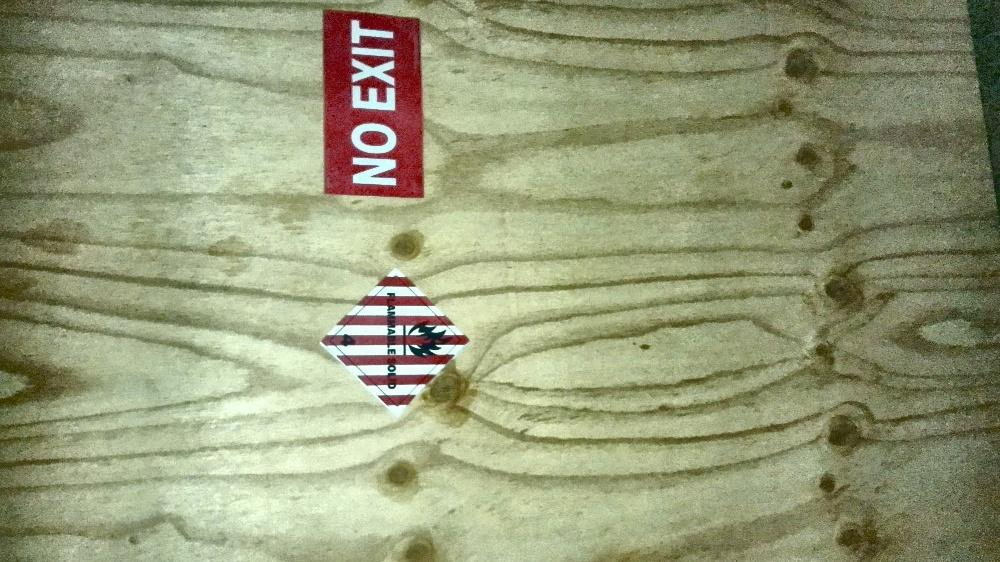flammable-solid: (321, 267, 469, 413)
